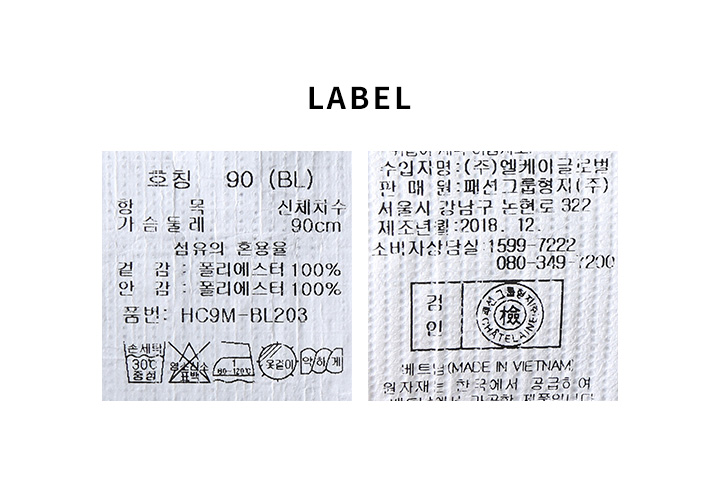KR_gentle_wring: (299, 343, 346, 379)
KR_hand_wash_30_neutral: (119, 338, 168, 389)
KR_hang_dry_in_shade: (257, 339, 299, 383)
KR_iron_low_temp_with_cloth: (212, 338, 256, 390)
KR_no_bleach: (168, 340, 211, 390)
